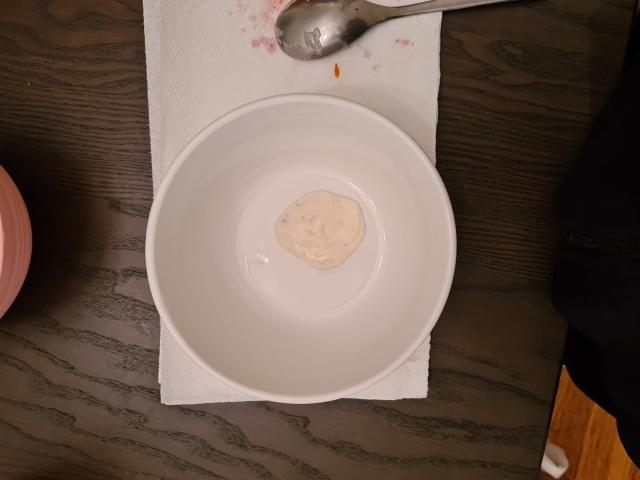kichen waste: (275, 190, 367, 270)
